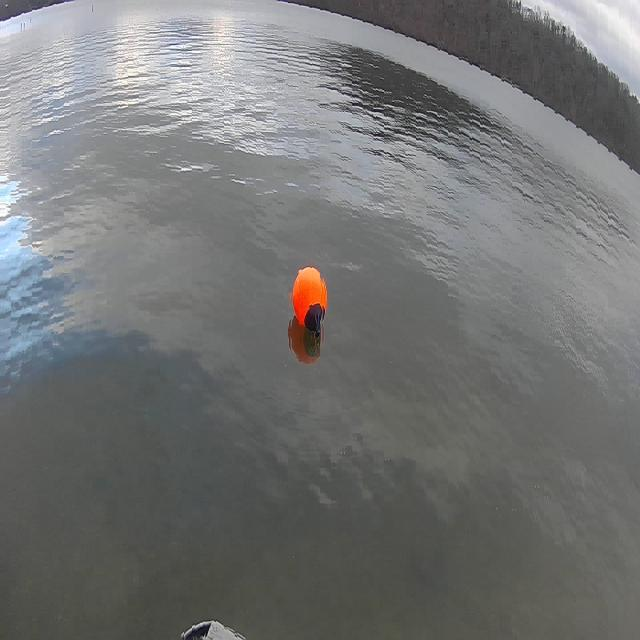Buoy: (286, 251, 334, 351)
